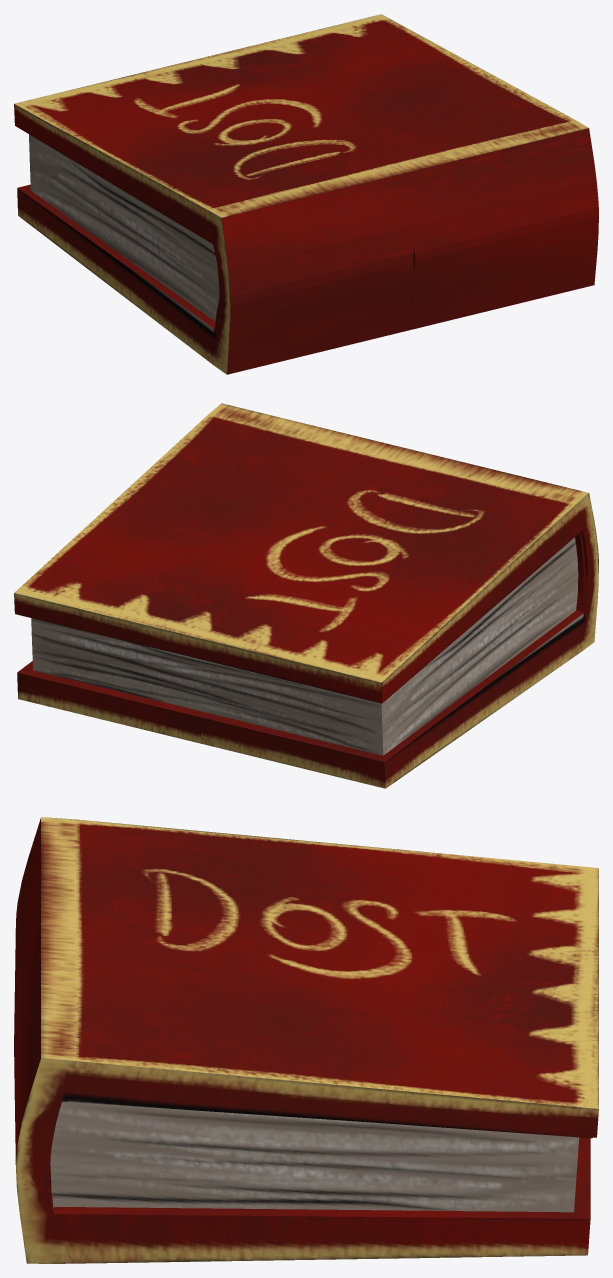
File: Book Half.fbx
3 views of the same model, one above another, from view 1: azimuth 30°, elevation 25°; view 2: azimuth 150°, elevation 25°; view 3: azimuth 270°, elevation 25° (orthographic). The views are drawn at different scales.
Parts seen in each view (by area): view 1: Cube.001, Cube, Plane.002; view 2: Cube.001, Cube, Plane.002, Plane.001; view 3: Cube, Cube.001, Plane.001.
Part boxes in pixels (<box>): Cube.001: <box>14,59,414,374</box>; Cube: <box>198,14,598,329</box>; Plane.002: <box>29,134,219,321</box>; Cube.001: <box>198,448,598,788</box>; Cube: <box>14,403,404,743</box>; Plane.002: <box>208,537,578,755</box>; Plane.001: <box>31,618,209,713</box>; Cube: <box>14,937,598,1263</box>; Cube.001: <box>14,817,598,1042</box>; Plane.001: <box>50,1101,579,1212</box>.
Bounding box in the file's own units: 320 × 126 × 326.
